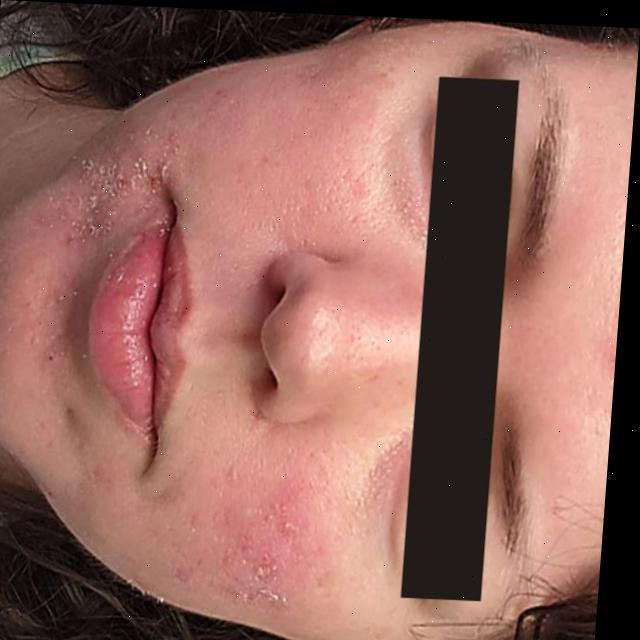Rosacea: (235, 49, 398, 232), (171, 455, 331, 627)
